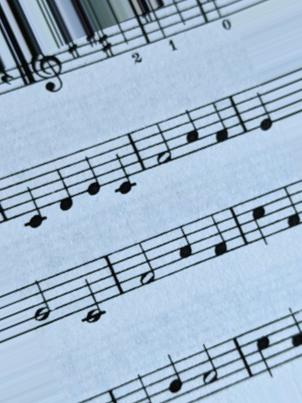note: (18, 169, 51, 233), (110, 137, 140, 198), (52, 154, 76, 215), (248, 197, 273, 252), (160, 353, 188, 402), (254, 324, 276, 382), (83, 145, 105, 201), (207, 212, 230, 262), (254, 80, 275, 134), (211, 97, 232, 147), (180, 107, 201, 157), (281, 184, 302, 231), (175, 225, 195, 270), (285, 306, 302, 355)
